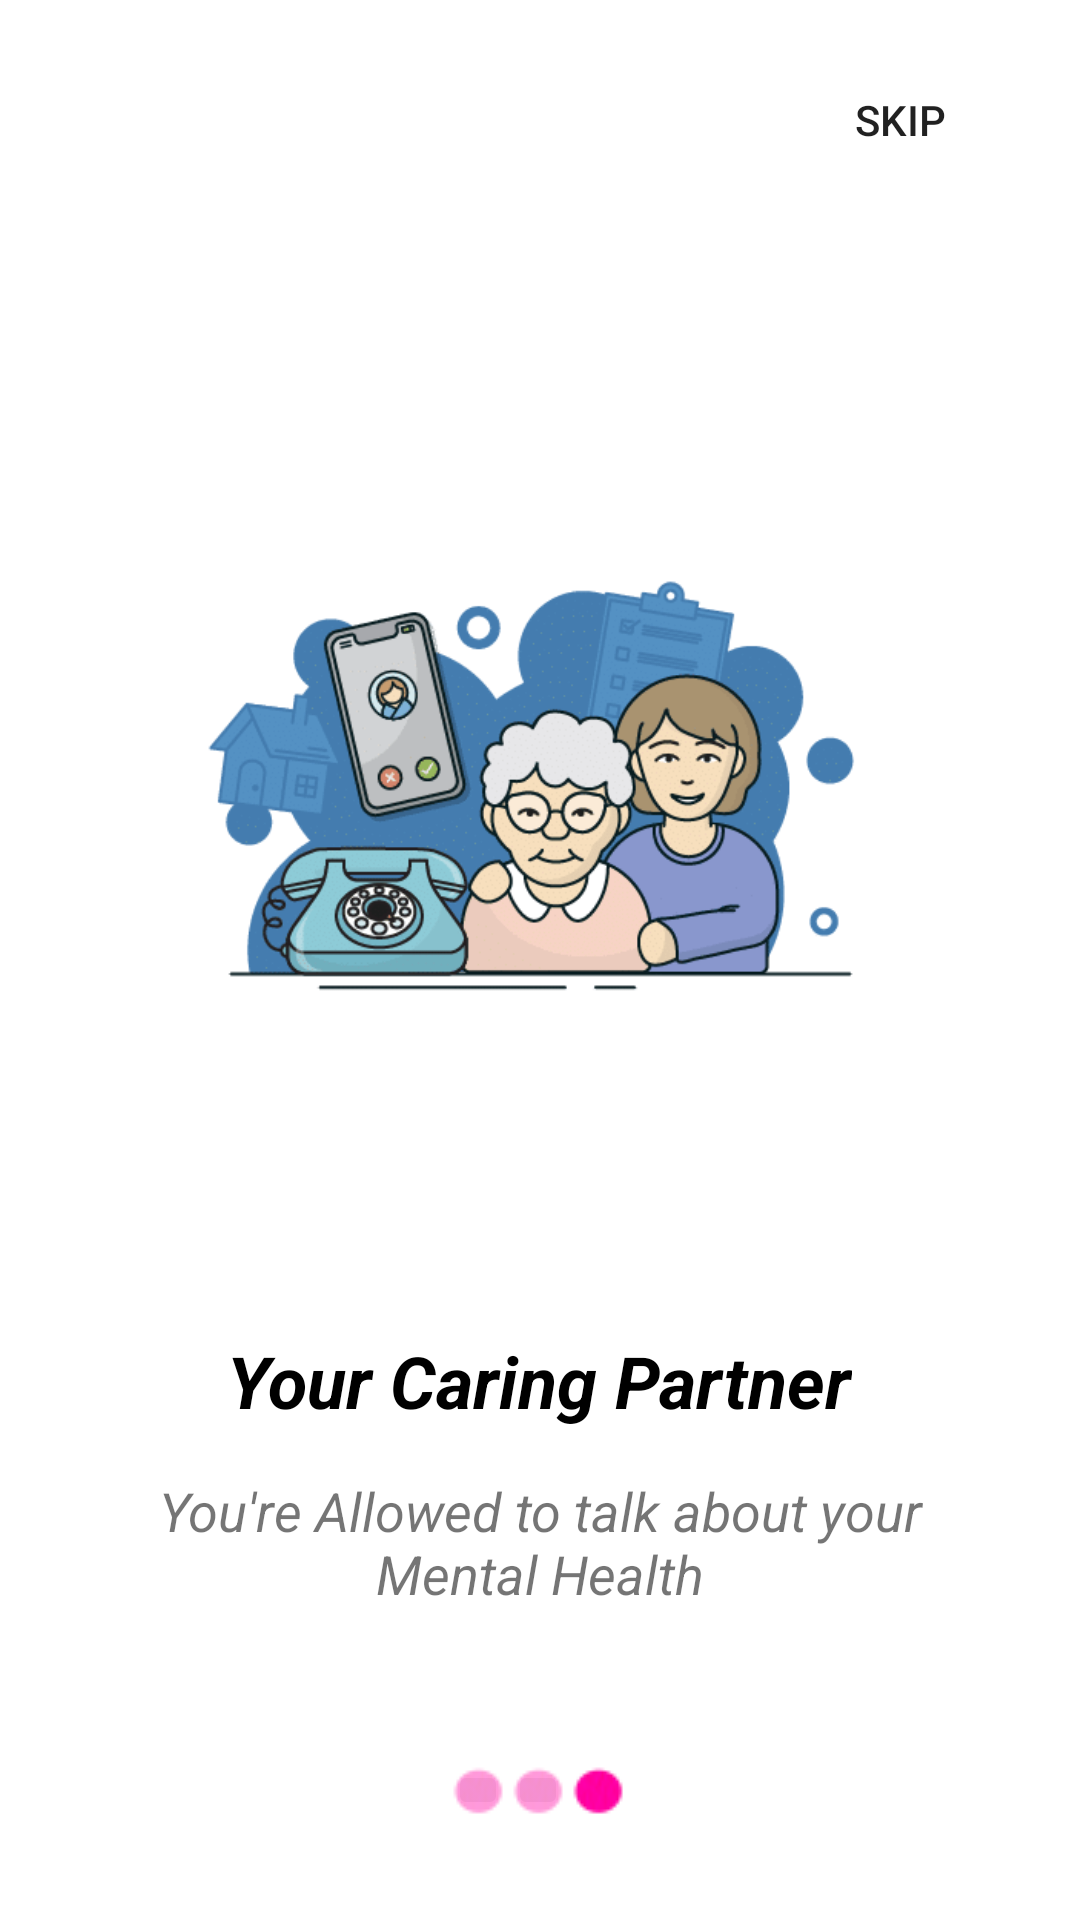

Locate icon controls on the screen. Image size 1080x1920, boxes as (x1, y1, x2, y2).
dot: (573, 1768, 623, 1814), (454, 1769, 503, 1814), (514, 1769, 563, 1814)
